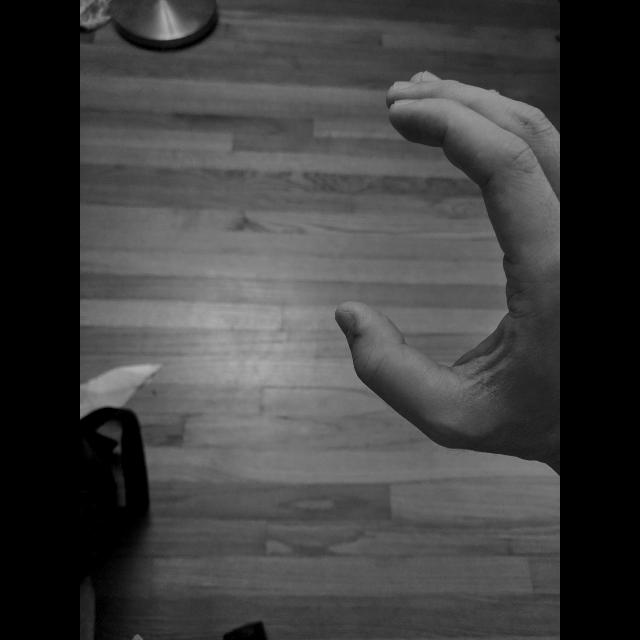C: (327, 65, 559, 472)
